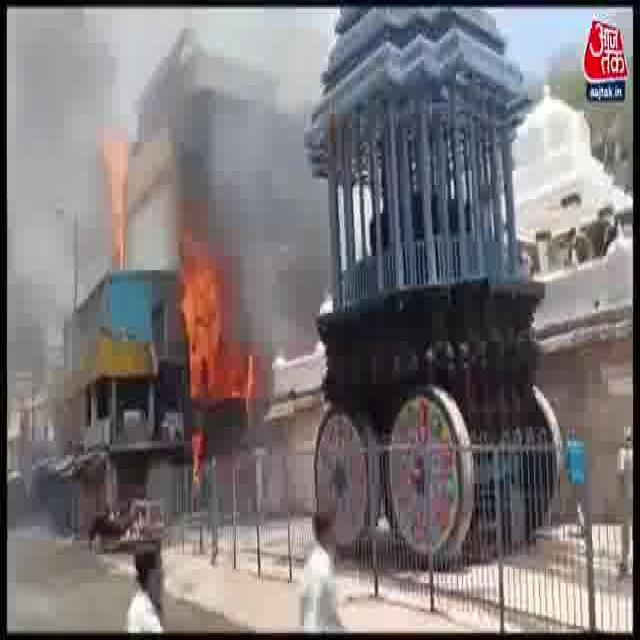Fire: (170, 238, 228, 388)
